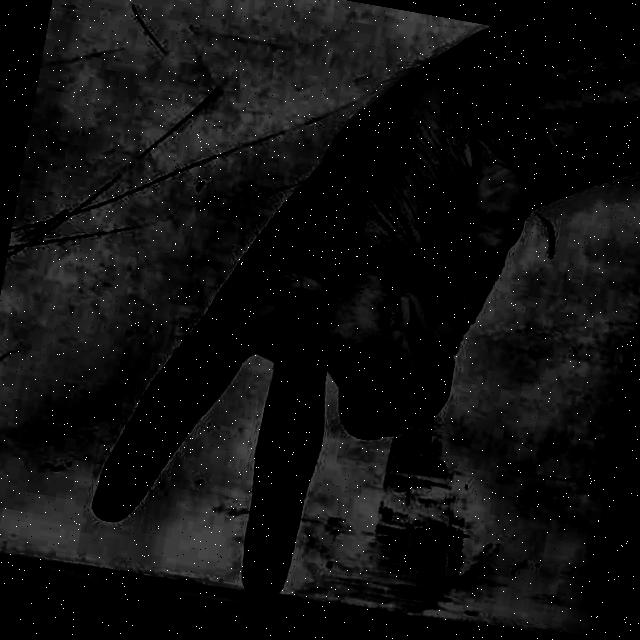Pa: (56, 14, 563, 640)
